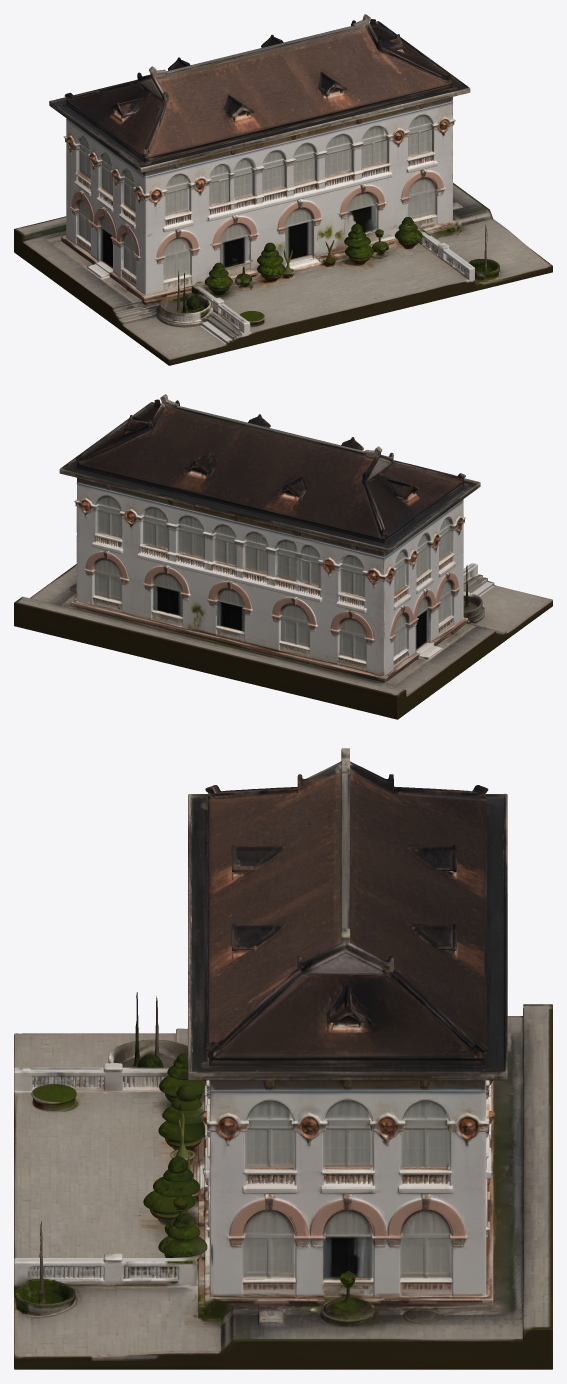
Rendered from dinhbaodai.glb.
3 renders of one model, top to bottom at view 1: azimuth 30°, elevation 25°; view 2: azimuth 150°, elevation 25°; view 3: azimuth 270°, elevation 25°, orthographic. The views are drawn at different scales.
Parts seen in each view (by area): view 1: node_0; view 2: node_0; view 3: node_0.
Part boxes in pixels (<box>): node_0: <box>14,14,552,365</box>; node_0: <box>14,394,552,719</box>; node_0: <box>14,748,552,1369</box>.
Bounding box in the file's own units: 0.9058 × 0.4732 × 0.6345.
Materials: 1 (1 with a texture image).
